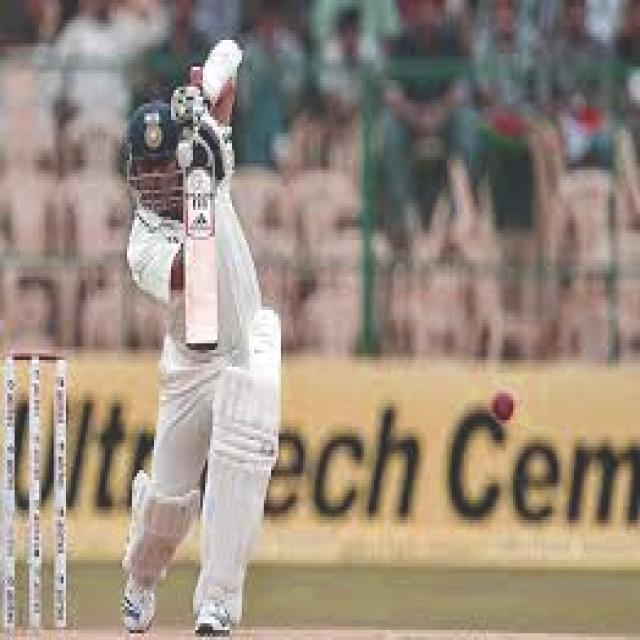bat: (185, 173, 219, 357)
toe: (181, 341, 221, 352)
